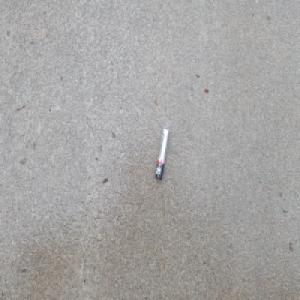Battery: (154, 126, 169, 181)
